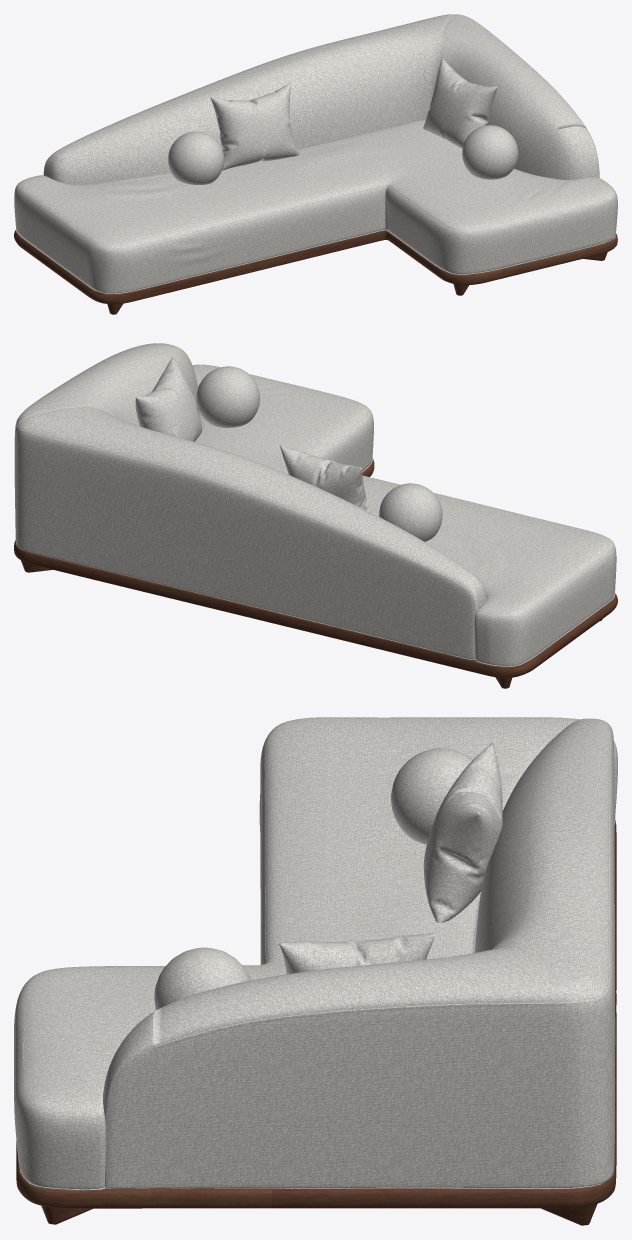
Rendered from Bossa-Corner-Larforma.glb.
3 renders of one model, top to bottom at view 1: azimuth 30°, elevation 25°; view 2: azimuth 150°, elevation 25°; view 3: azimuth 270°, elevation 25°, orthographic. The views are drawn at different scales.
Parts seen in each view (by area): view 1: Assento.001, Costa, Rodape.001, Cushions.002, Cushions.001, Sphere.002, Sphere.007, Assento.003; view 2: Costa, Assento.001, Rodape.001, Cushions.001, Sphere.002, Cushions.002, Sphere.007, Costa.003; view 3: Costa, Assento.001, Rodape.001, Cushions.002, Sphere.007, Cushions.001, Sphere.002.
Boxes of the visible parts, x1,y1,x2,y2 form: Assento.001: (14, 120, 617, 293); Costa: (43, 14, 599, 184); Rodape.001: (14, 230, 617, 303); Cushions.002: (210, 83, 300, 170); Cushions.001: (423, 57, 497, 148); Sphere.002: (462, 125, 518, 179); Sphere.007: (168, 131, 224, 184); Assento.003: (15, 229, 615, 294); Costa: (14, 343, 487, 659); Assento.001: (192, 364, 616, 665); Rodape.001: (14, 459, 617, 677); Cushions.001: (135, 357, 202, 441); Sphere.002: (196, 366, 260, 427); Cushions.002: (280, 445, 370, 512); Sphere.007: (379, 483, 442, 541); Costa.003: (19, 548, 475, 659); Costa: (103, 718, 615, 1188); Assento.001: (14, 717, 617, 1189); Rodape.001: (16, 820, 616, 1208); Cushions.002: (423, 742, 502, 923); Sphere.007: (391, 748, 472, 844); Cushions.001: (279, 933, 435, 974); Sphere.002: (154, 947, 251, 1010).
Bounding box in the file's own units: 2.31 × 0.6771 × 1.49.
2 materials, 2 textured.
